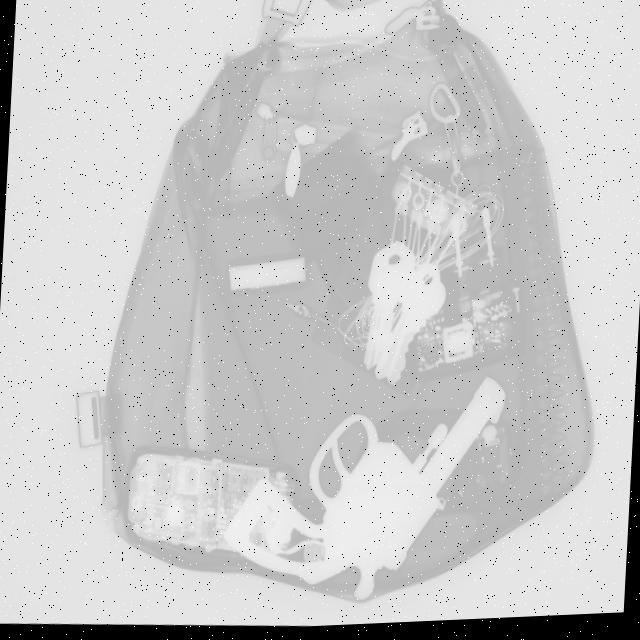pistol: (223, 369, 506, 616)
